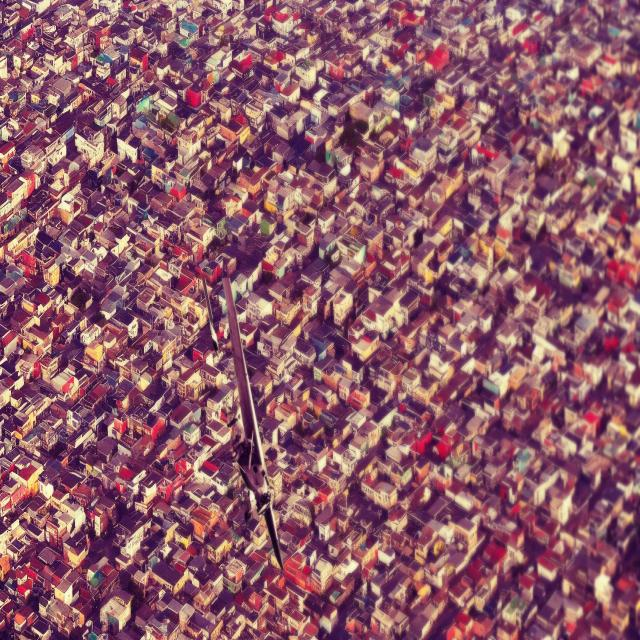airplane: (220, 274, 284, 575)
